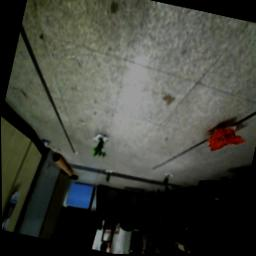herb: (91, 137, 111, 162), (162, 175, 173, 192), (105, 172, 113, 185)
wild: (205, 120, 251, 162)
